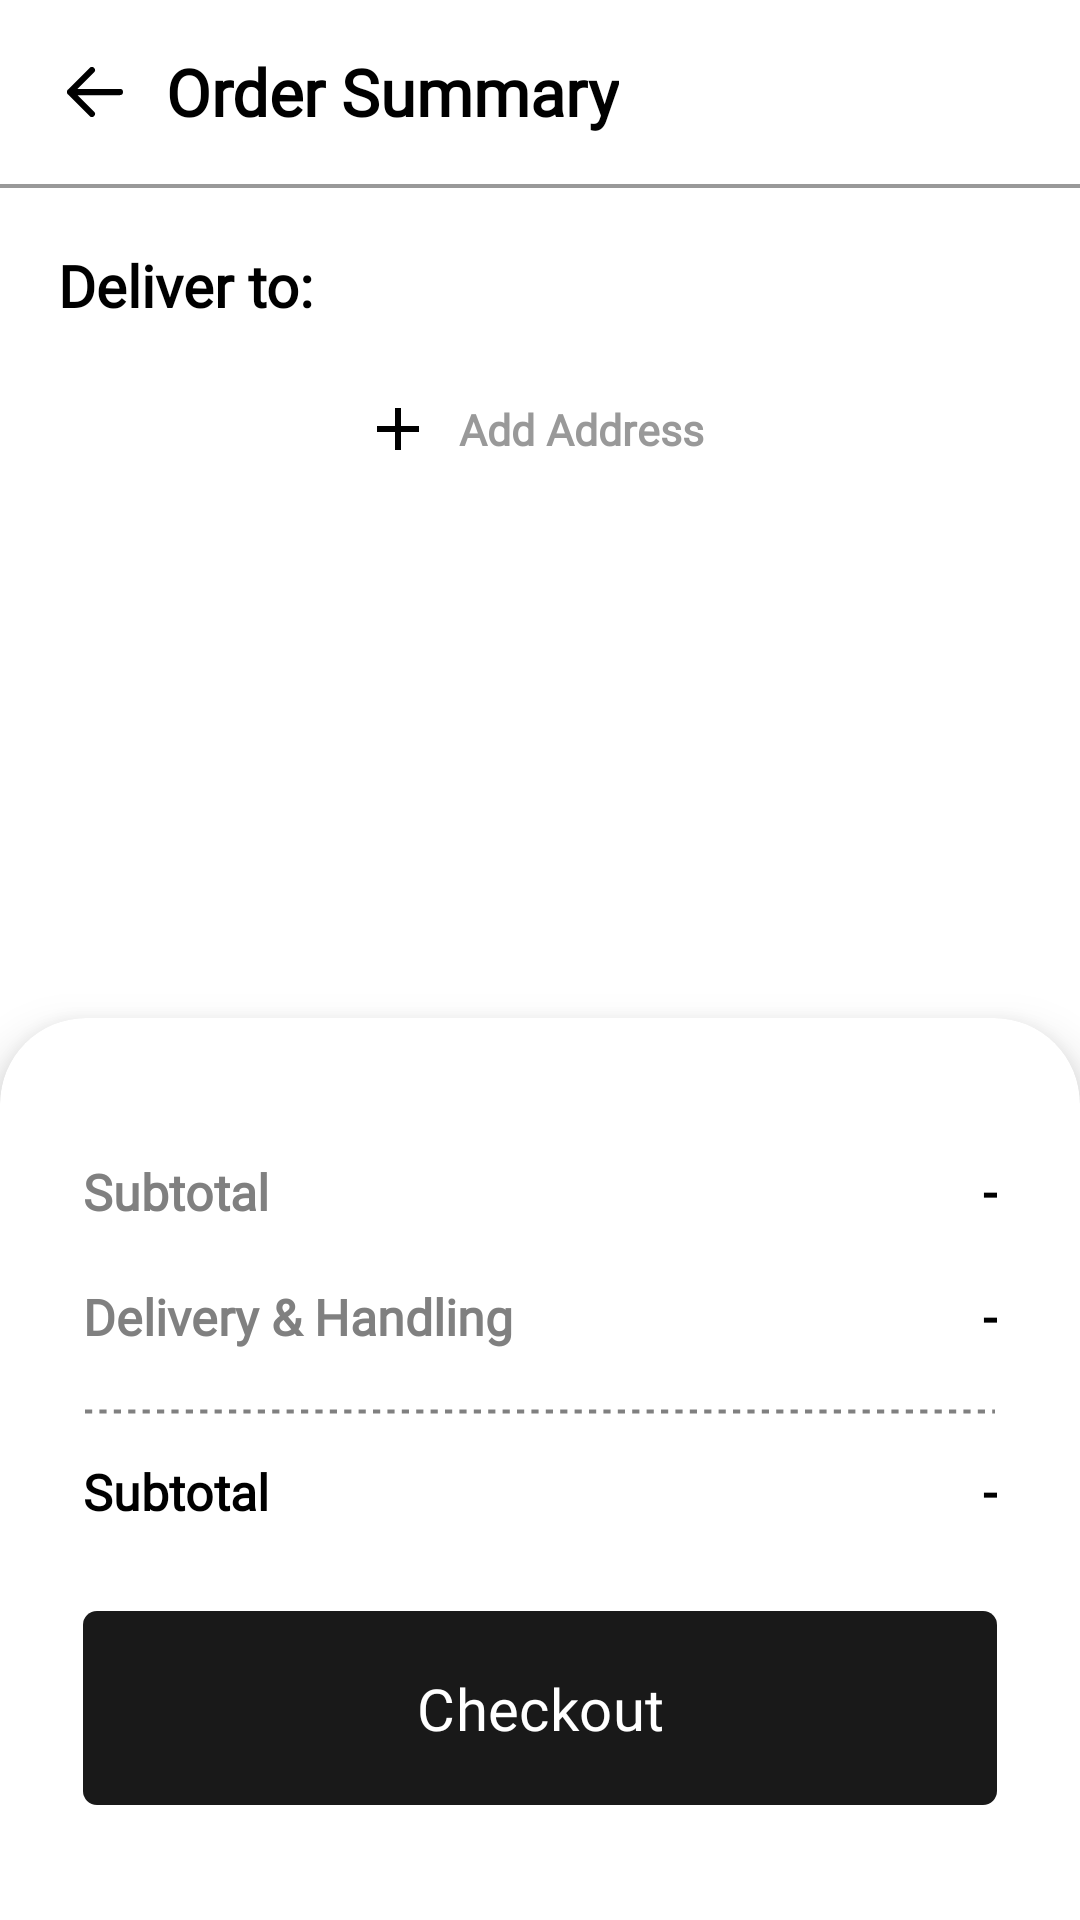

Where icons sit on this 1080x1920 app screen, as (x1, y1, x2, y2):
back: (67, 67, 123, 117)
